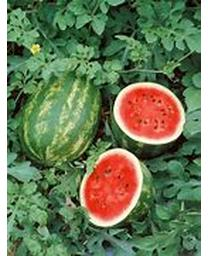watermelon: (16, 68, 102, 165), (77, 147, 158, 225), (112, 81, 185, 158)
